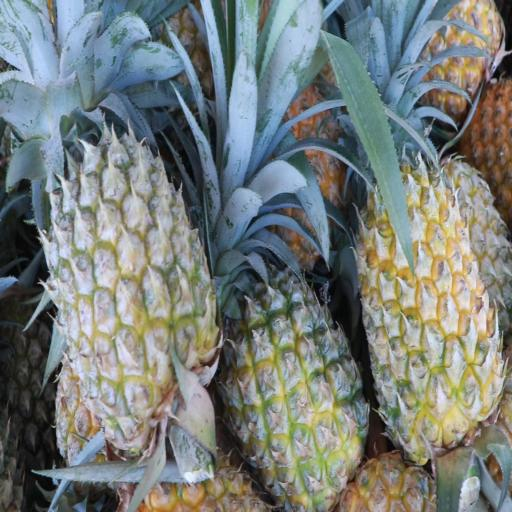------------------------------: (55, 144, 213, 446)
Pineapple - v8 v1: (362, 168, 498, 456), (227, 274, 363, 501), (416, 2, 504, 108)
